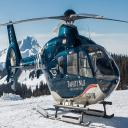helicopter: (3, 4, 126, 127)
